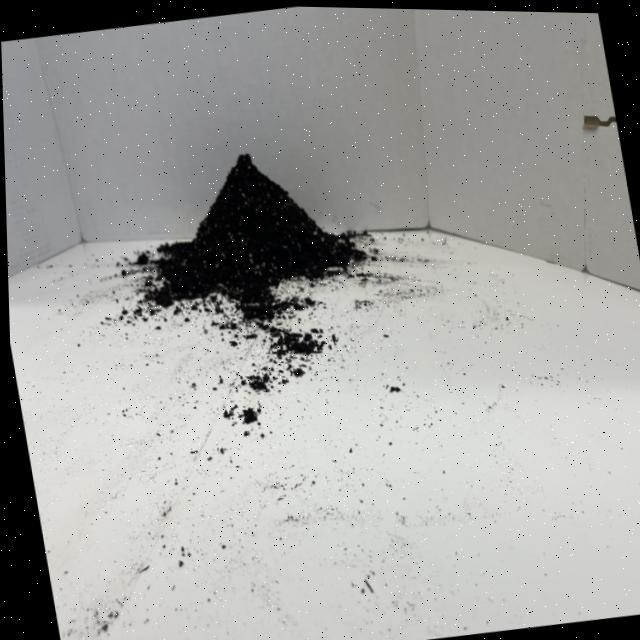soil: (111, 131, 379, 337)
